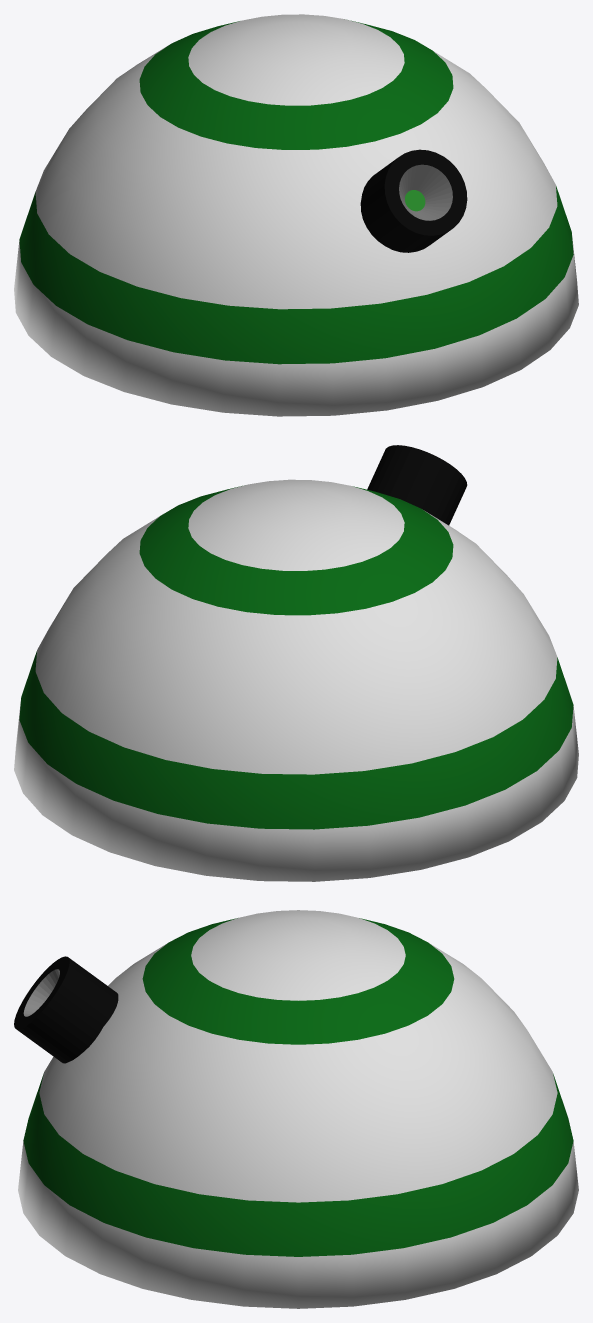
File: playerhead.fbx
The picture shows the model from 3 angles, top to bottom: view 1: azimuth 30°, elevation 25°; view 2: azimuth 150°, elevation 25°; view 3: azimuth 270°, elevation 25°; orthographic projection.
Visible parts, largest first — view 1: Dome, Cylinder; view 2: Dome, Cylinder; view 3: Dome, Cylinder.
Part boxes in pixels (bbox=[...]): Dome: bbox=[14, 14, 578, 416]; Cylinder: bbox=[360, 149, 467, 252]; Dome: bbox=[14, 479, 578, 881]; Cylinder: bbox=[367, 445, 467, 525]; Dome: bbox=[18, 910, 578, 1308]; Cylinder: bbox=[14, 956, 118, 1063].
Size of the model in its own units: 200 by 100 by 201.
